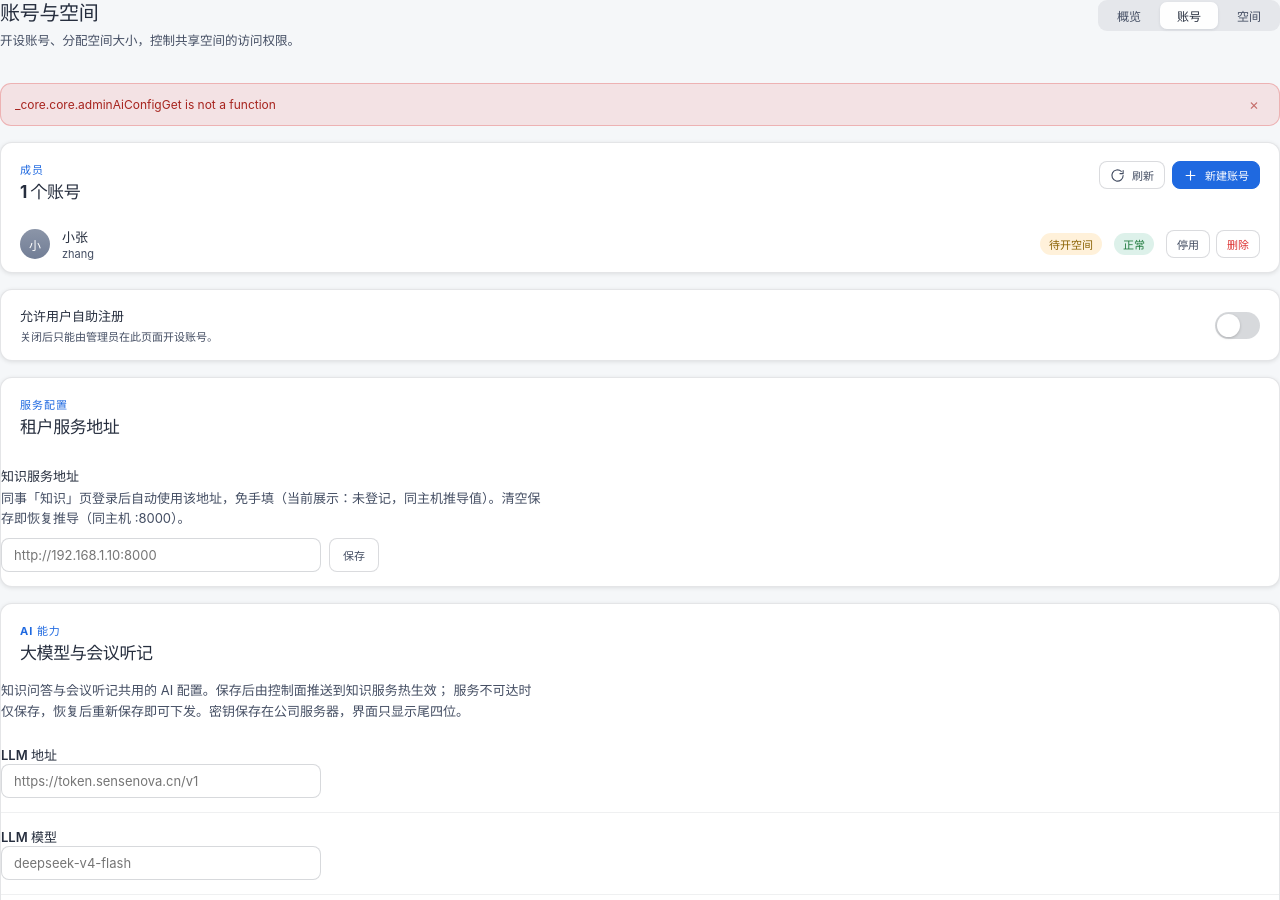
Test case: AdminPanel 空间分配 › 有「不限」配额时说明已承诺数字偏小
Click the tab with class "admin-tab" showing "空间".
click(1249, 16)  # box [1220,2,1278,29]
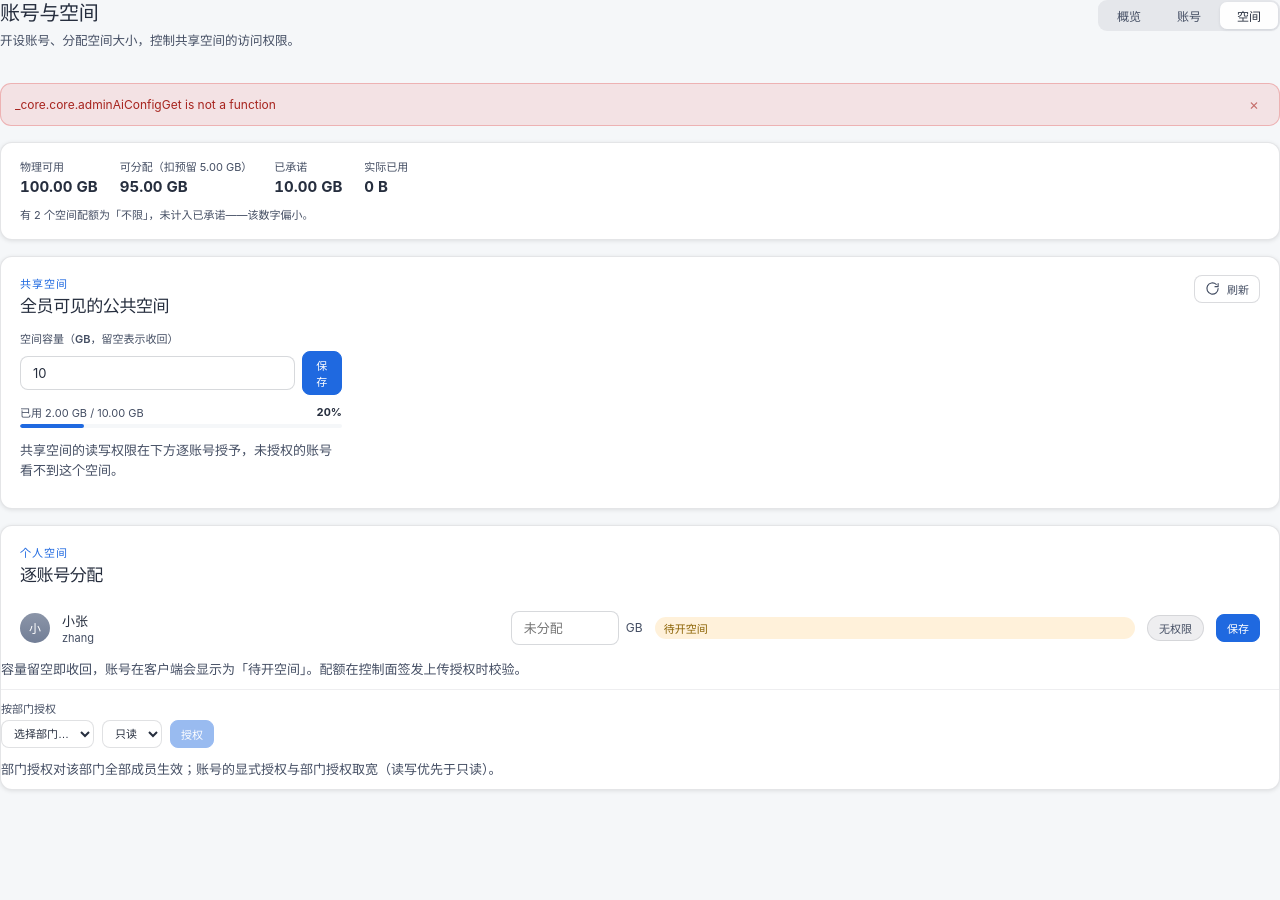
Expected: the text "2 个空间配额为「不限」" is shown, [20,208,313,222]
